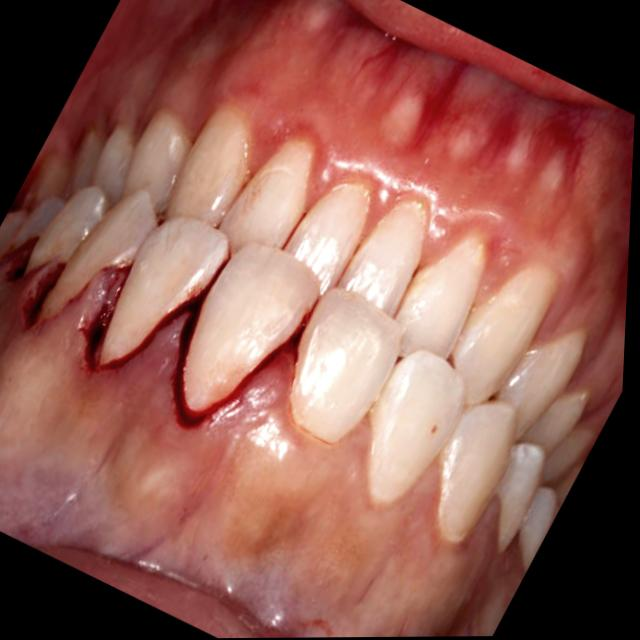gingivitis: (0, 266, 524, 637), (111, 30, 626, 335)
